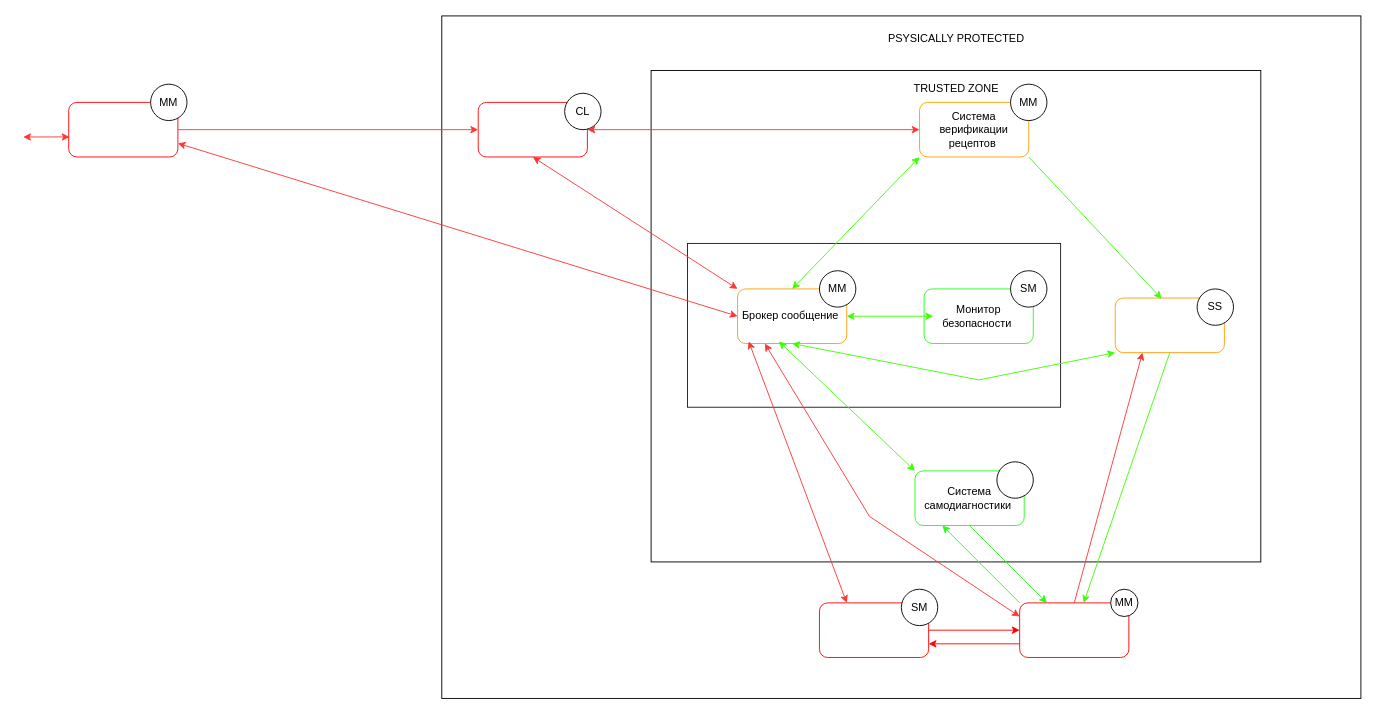
This 1377x714 diagram has some shape labels left out. The box of each missing label's shape, as (x1, y1, x2, y2) in pixels:
Контроль конфигурации: (1114, 297, 1224, 353)
Робот-фармацевт: (819, 602, 929, 657)
СM: (996, 461, 1033, 498)
Связь: (68, 101, 178, 157)
Сиситема управления роботом: (1019, 602, 1129, 657)
Хранилище рецептов: (477, 101, 587, 157)
